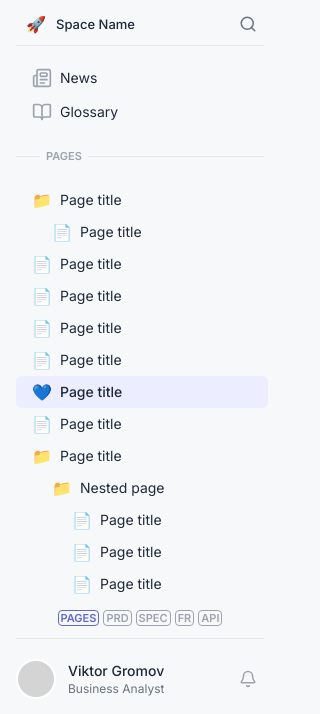
Test: LeftSidebar › Collection Name Divider › shows action buttons on hover
This screenshot has width=320, height=714.
Click on non-PAGES collection first (PAGES doesn't show settings)
Click the button "PRD".
click(118, 618)  # box [103,610,132,626]
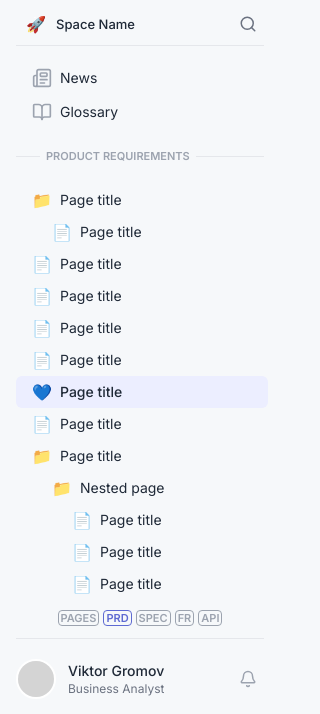
Hover over divider
Hover over the element with class "collection-name-divider".
mouse_move(118, 156)  # box [46,149,190,163]
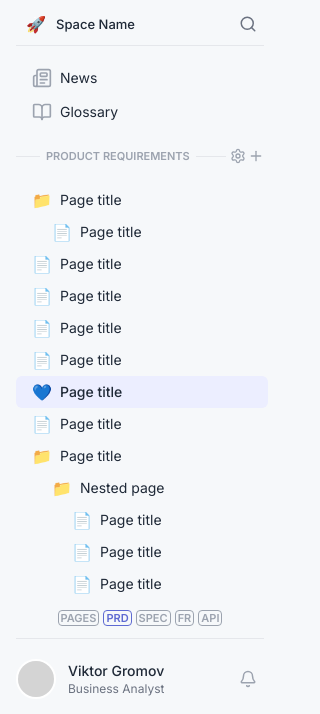
Now the button named "Settings" is shown, box [230,148,246,164]
Now the button named "Add page" is shown, box [248,148,264,164]
